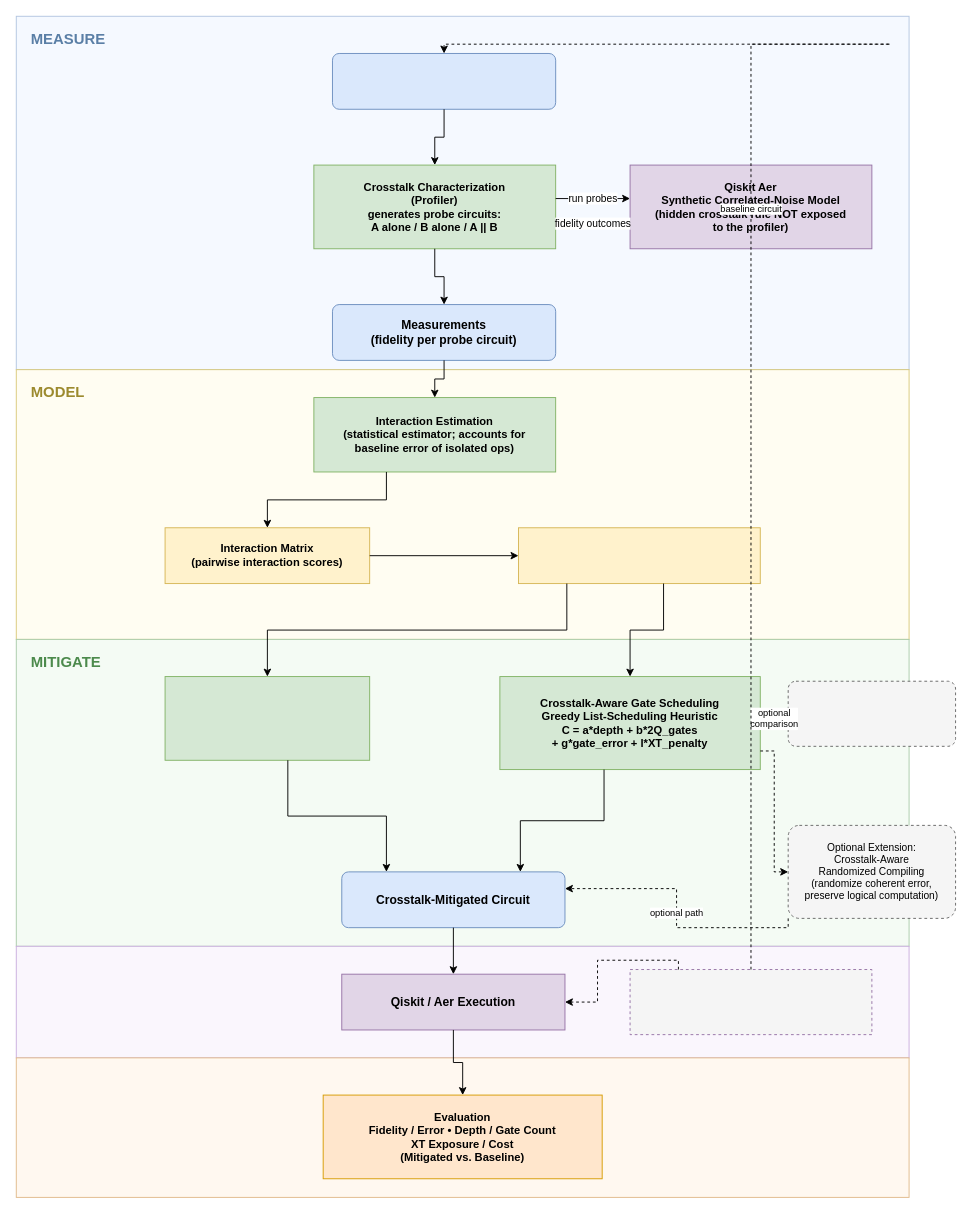
The diagram is 972 pixels wide and 1214 high, and some of its shapes have lost their labels. The box of each missing label's shape, as (x1, y1, x2, y2) in pixels:
Baseline: Standard Qiskit Transpiler (no crosstalk awareness): (629, 969, 872, 1035)
Crosstalk-Aware Qubit Placement (prefer low-interaction physical regions): (164, 676, 370, 760)
EVALUATE: (15, 1057, 909, 1197)
EXECUTE: (15, 945, 909, 1058)
Optional: Beam-Search Optimizer (compare vs. greedy): (787, 680, 956, 746)
Quantum Circuit (Qiskit QuantumCircuit): (332, 53, 556, 109)
Weighted Crosstalk Graph G_XT = (V, E, W): (518, 527, 760, 584)
